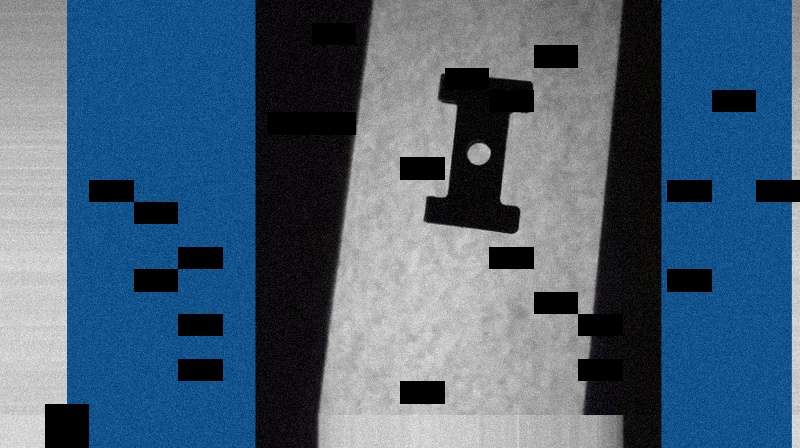O002: (417, 67, 535, 237)
